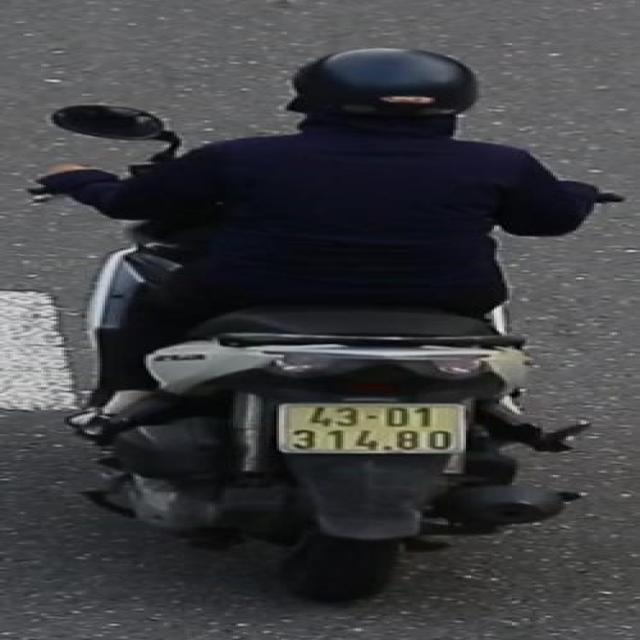LP: (269, 397, 471, 460)
helmet: (275, 42, 488, 141)
